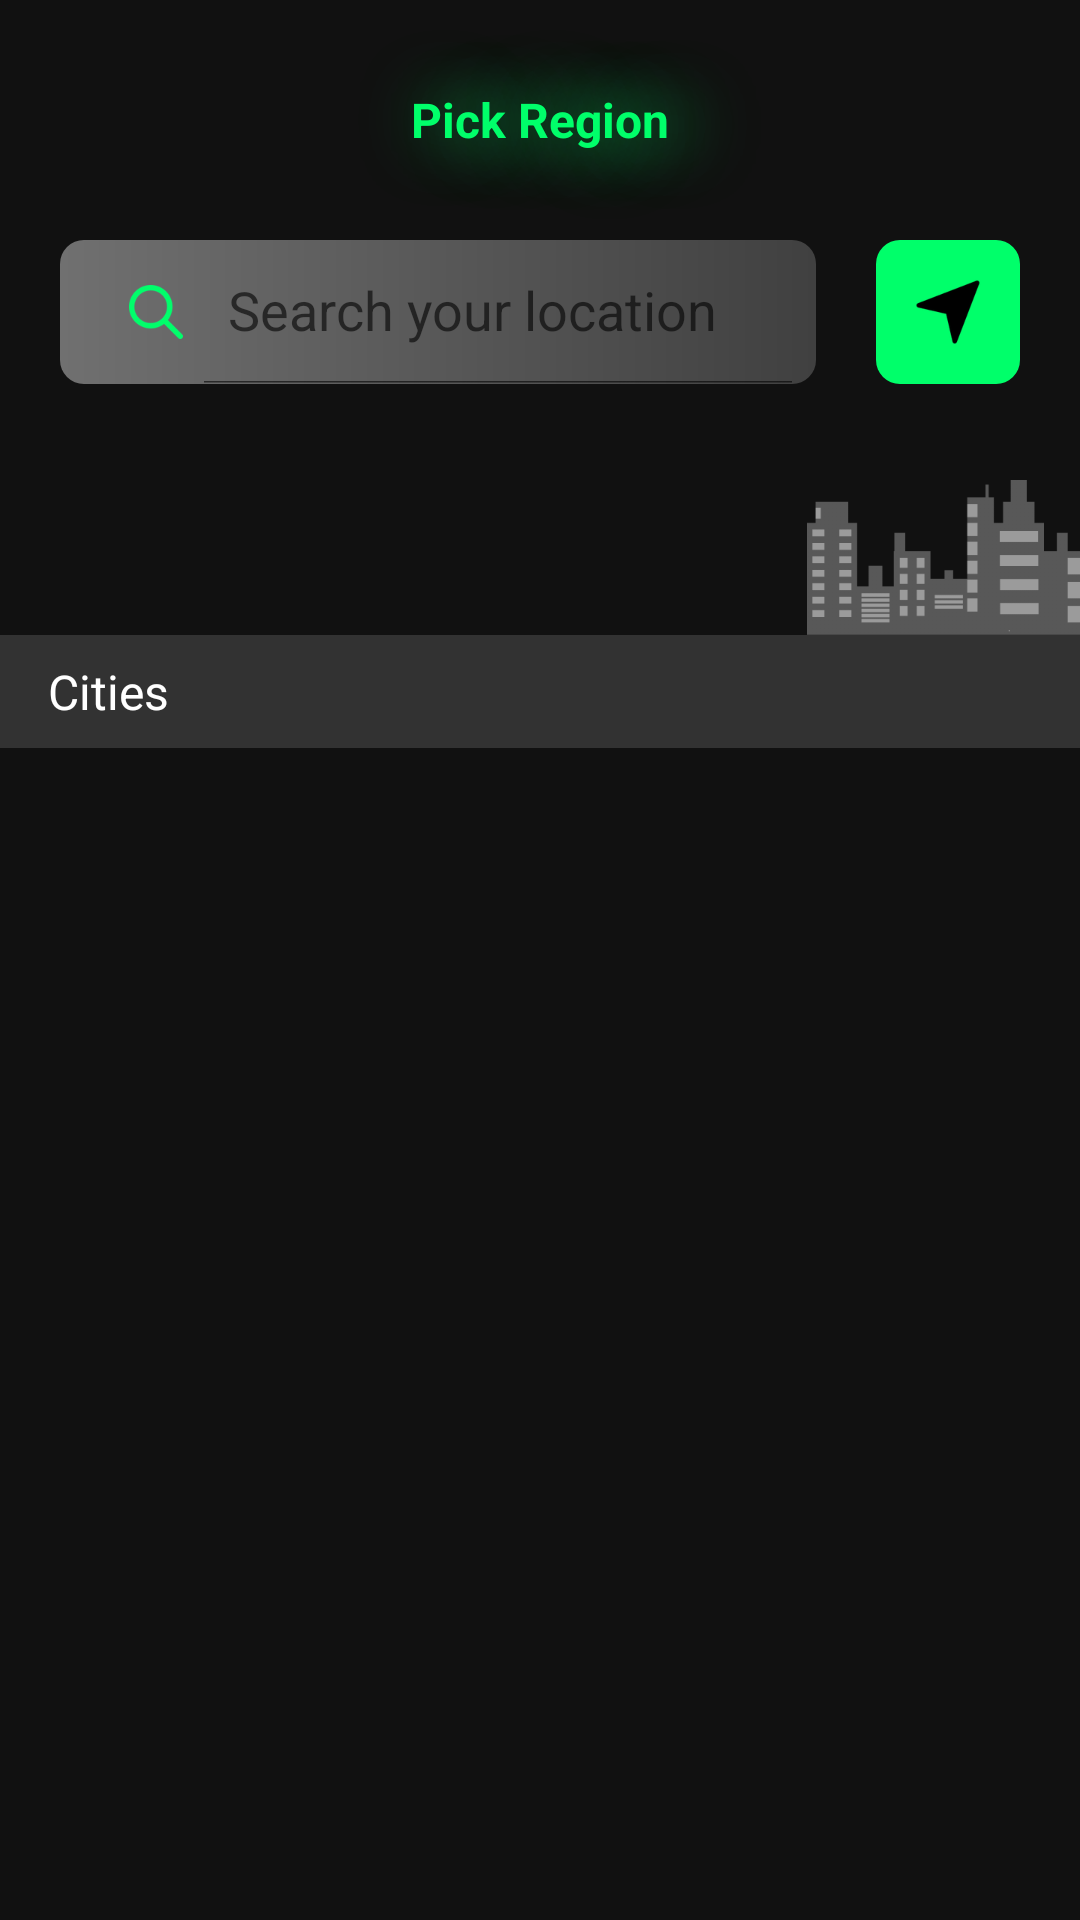

Icons on this 1080x1920 Android screen, each with its box as (x1, y1, x2, y2):
navigate: (876, 240, 1020, 384)
